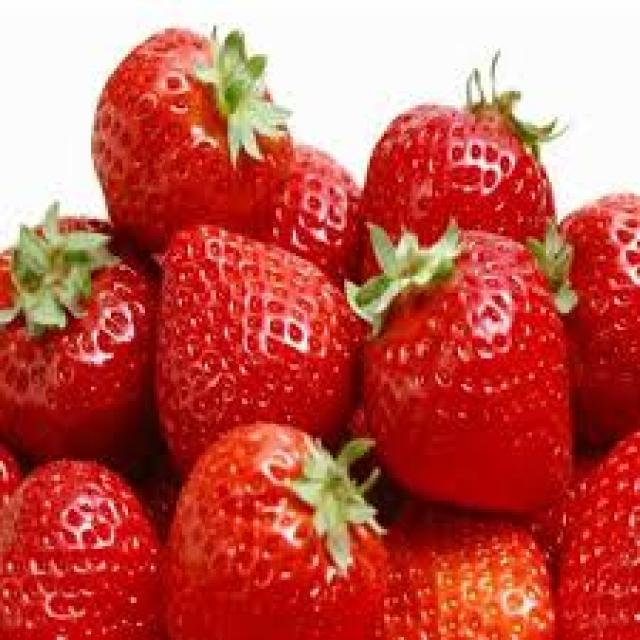Strawberries: (354, 247, 577, 513), (154, 236, 351, 465), (168, 437, 373, 640), (91, 28, 285, 242), (0, 229, 152, 454), (378, 94, 554, 275), (0, 463, 156, 637)
